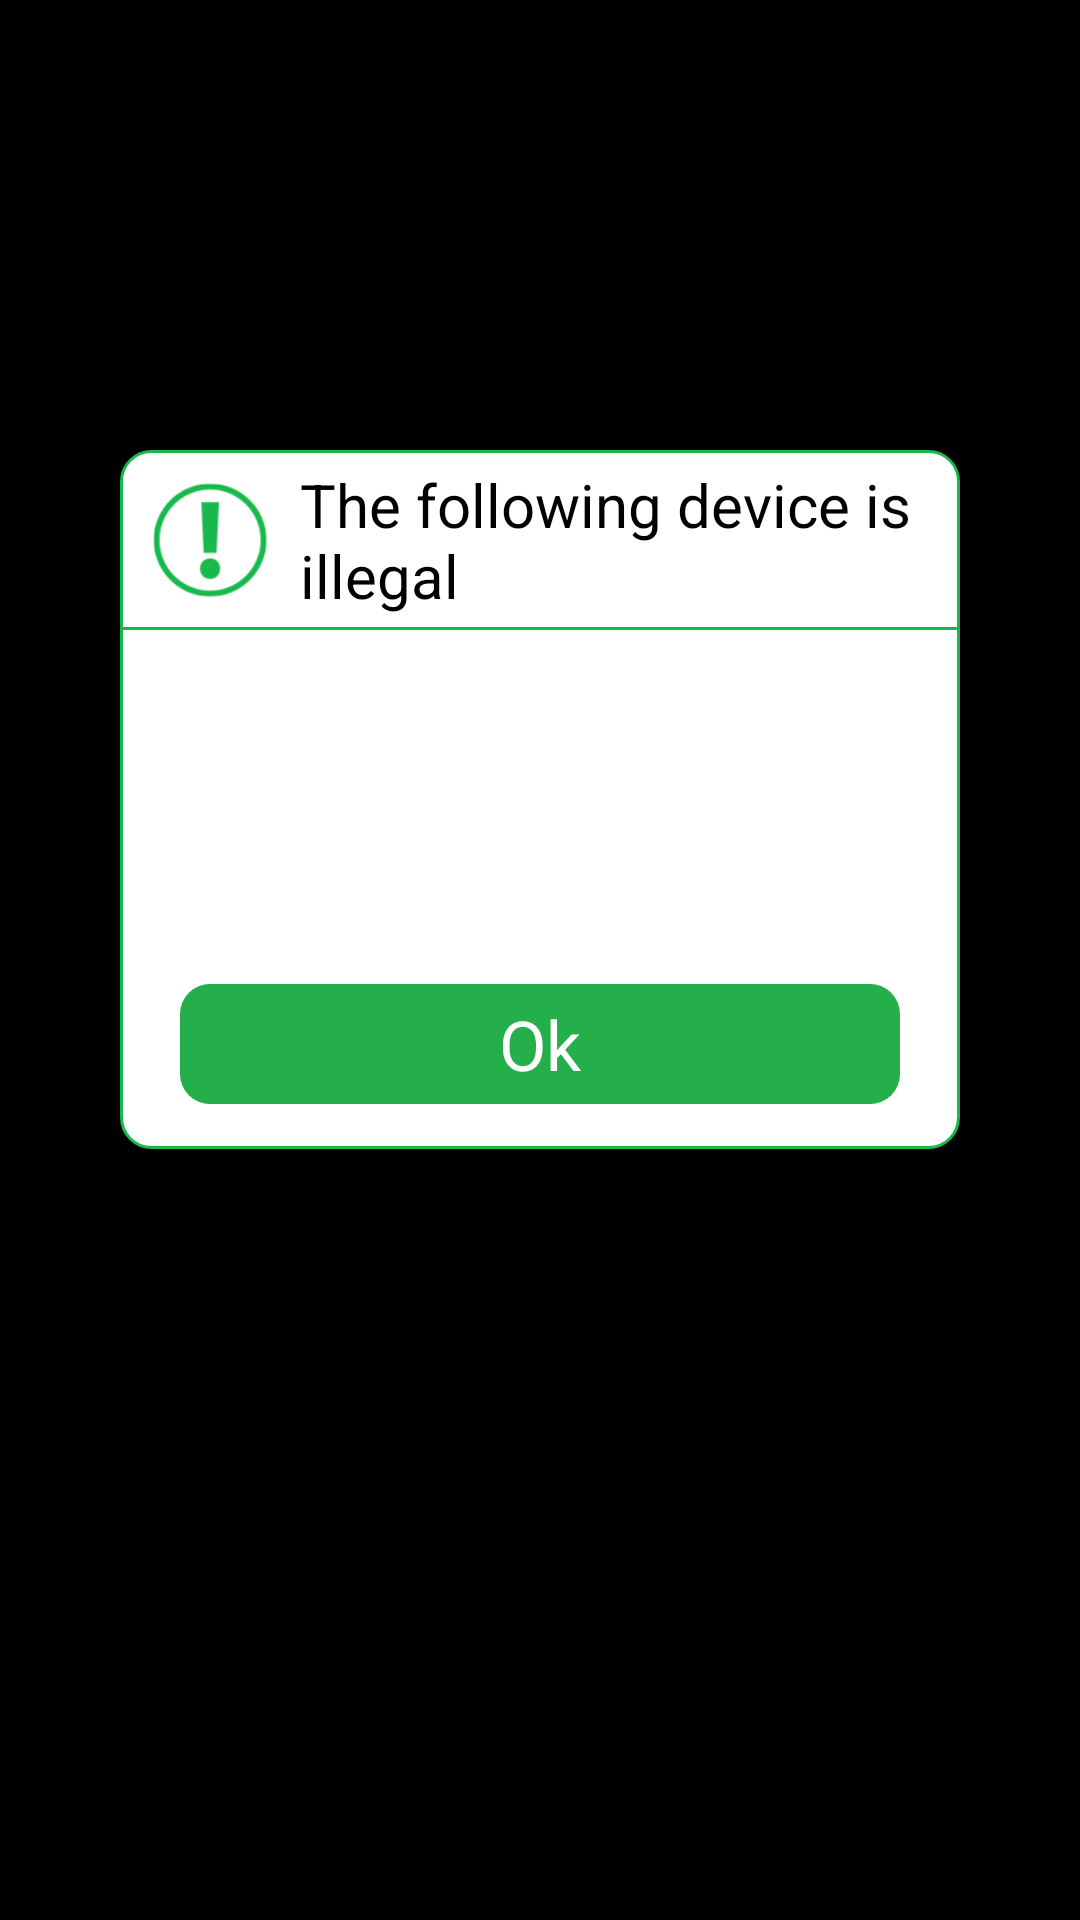

Icons on this 1080 × 1920 Android screen, each with the point to tap as (x=x, y=y):
gantanhao: (x=210, y=540)
